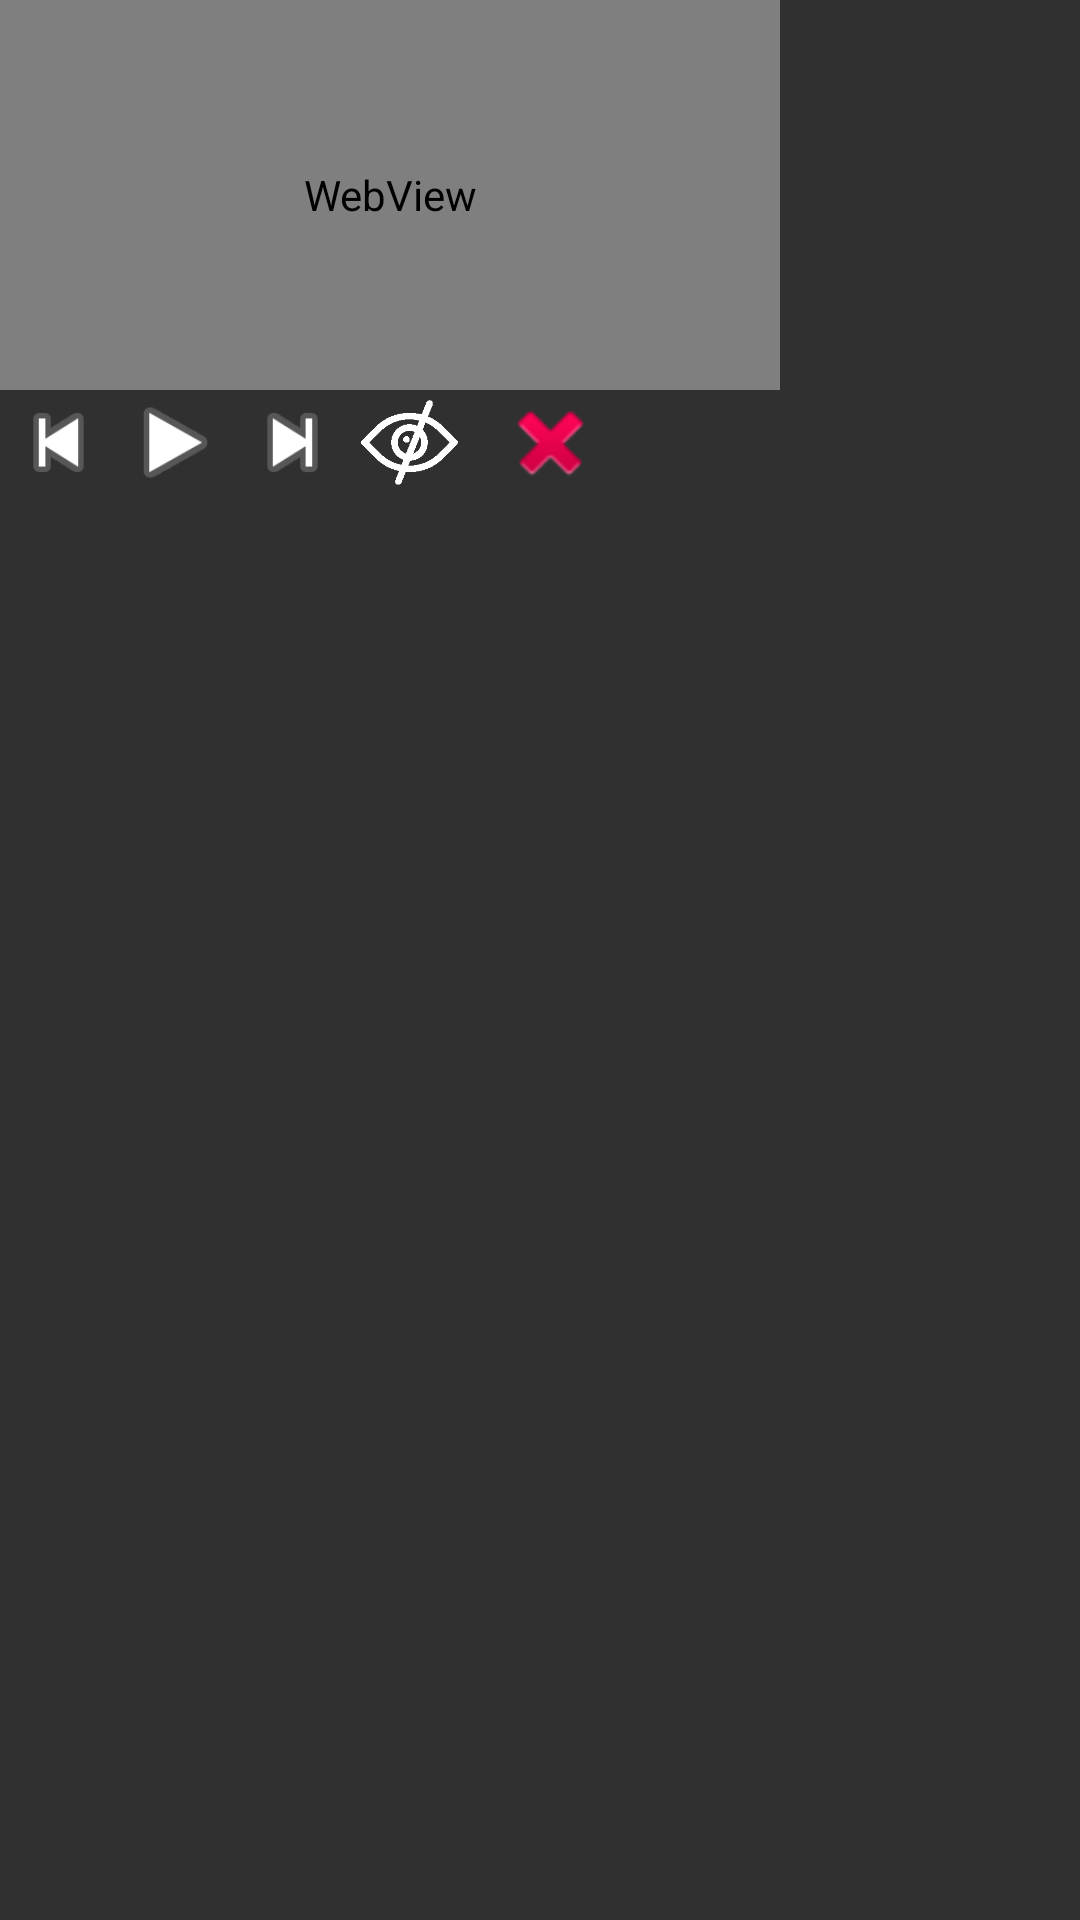

Point at icon controls on the screen. Image size 1080x1920, points as (x=x, y=y).
delete: (x=550, y=443)
hideicon: (x=409, y=442)
next: (x=292, y=442)
play: (x=175, y=442)
previous: (x=58, y=442)
